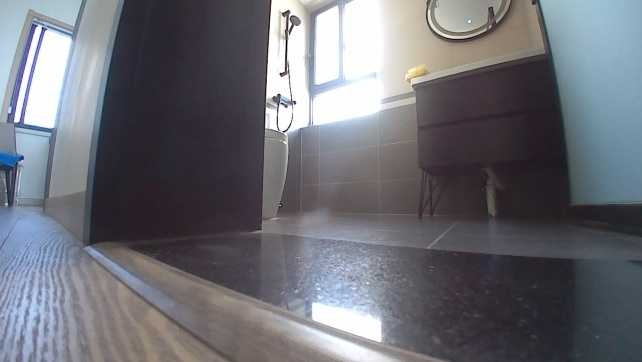door_sill: (84, 239, 461, 362)
toilet: (260, 121, 291, 216)
washstand: (410, 45, 564, 219)
